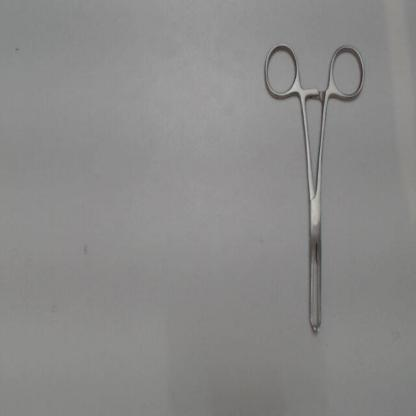Allis Tissue Forceps: (254, 36, 371, 344)
